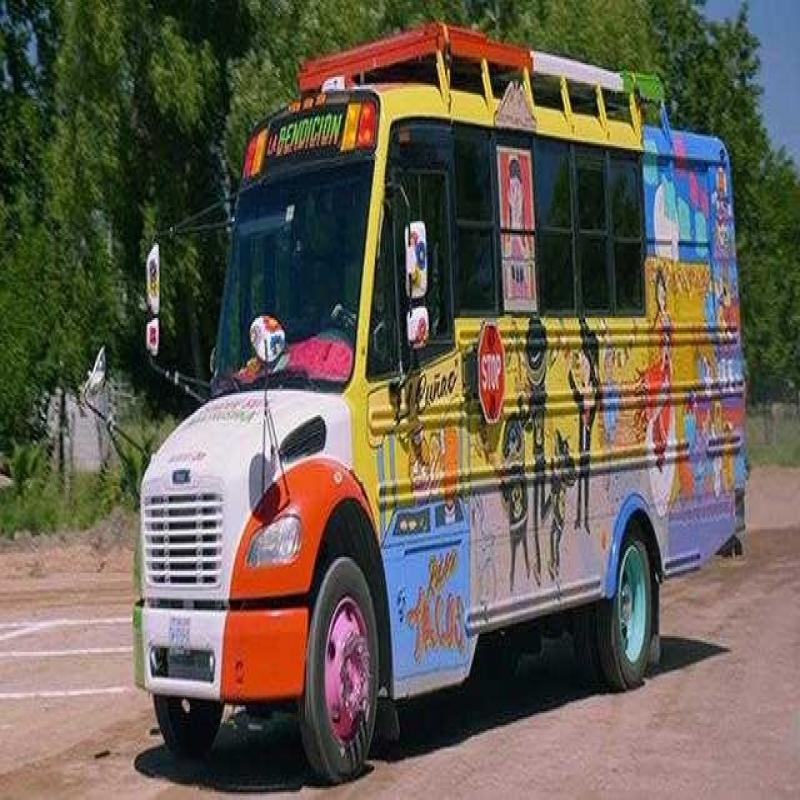bus: (139, 40, 772, 738)
